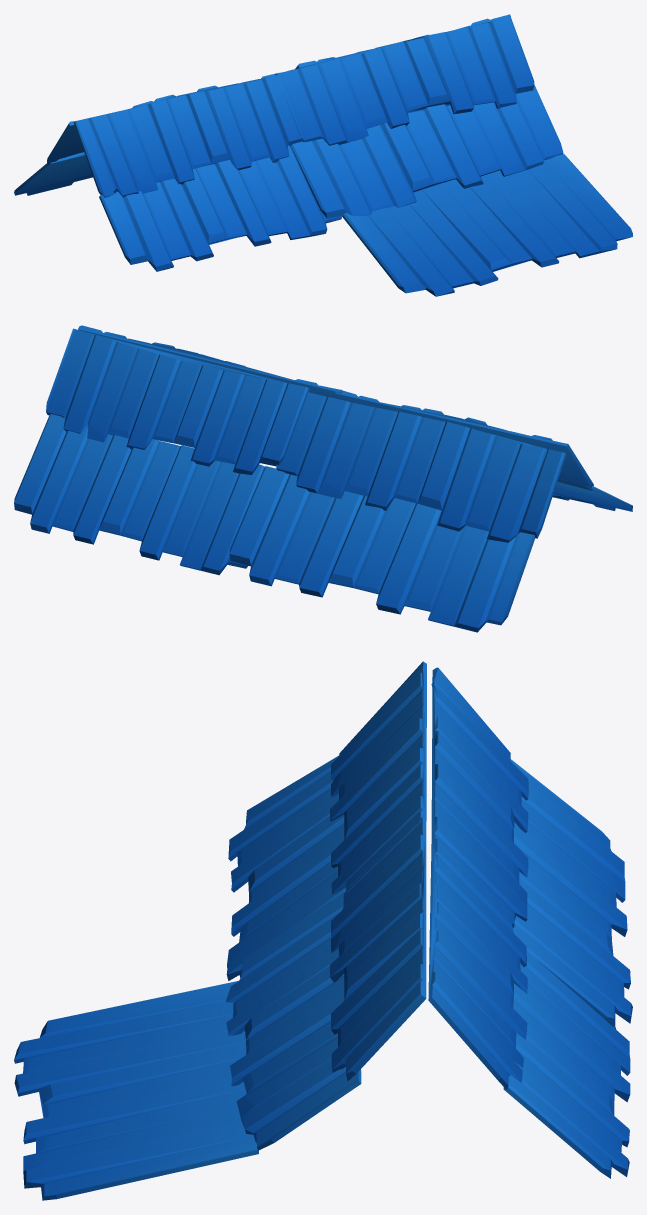
File: Roof_BluePlanks.fbx
3 renders of one model, top to bottom at view 1: azimuth 30°, elevation 25°; view 2: azimuth 150°, elevation 25°; view 3: azimuth 270°, elevation 25°, orthographic. The views are drawn at different scales.
Visible parts, largest first — view 1: Roof_BluePlanks; view 2: Roof_BluePlanks; view 3: Roof_BluePlanks.
Boxes of the visible parts, x1,y1,x2,y2 form: Roof_BluePlanks: [14, 14, 632, 296]; Roof_BluePlanks: [14, 325, 632, 632]; Roof_BluePlanks: [14, 661, 632, 1200].
Size of the model in its own units: 13.78 by 4.09 by 10.7.
